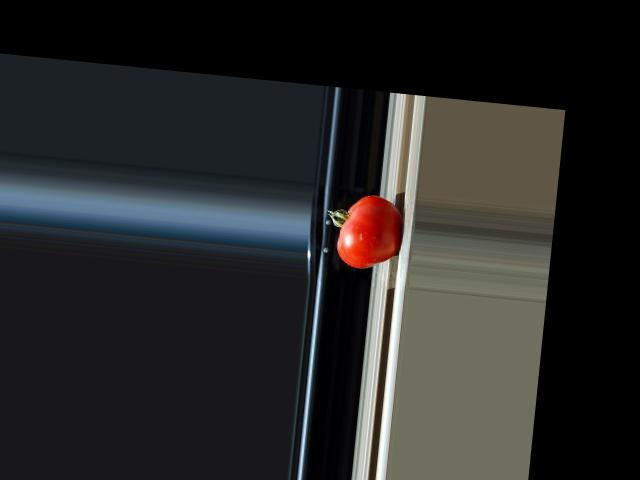tomato: (322, 191, 404, 271)
